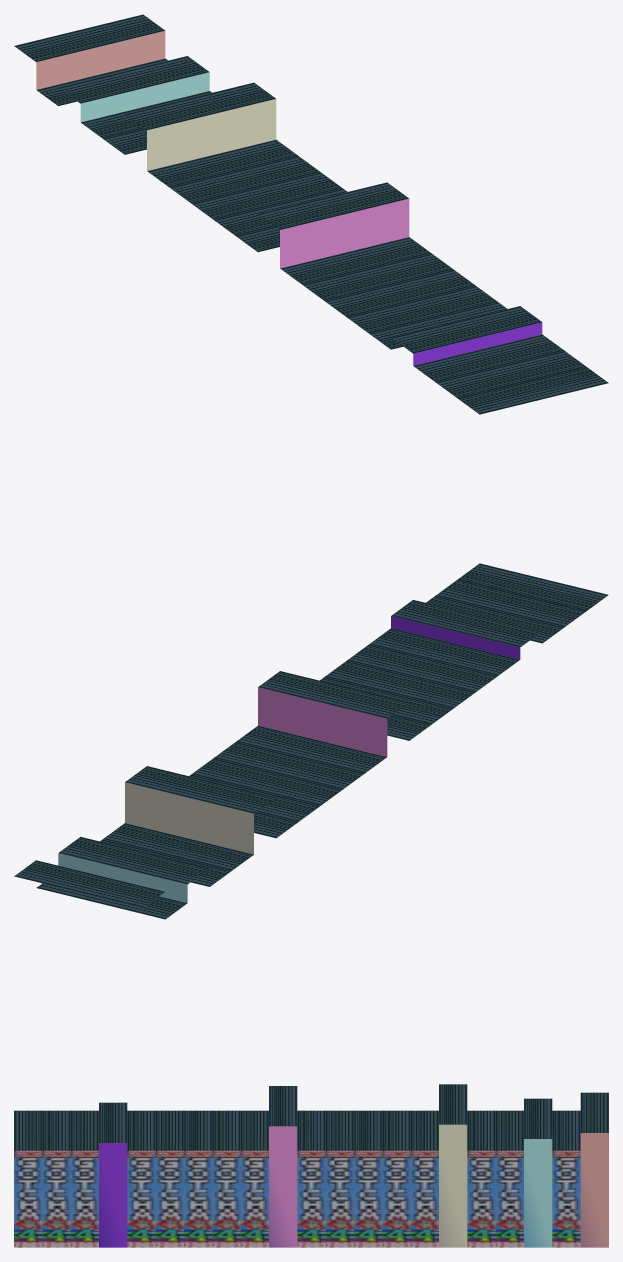
3 renders of one model, top to bottom at view 1: azimuth 30°, elevation 25°; view 2: azimuth 150°, elevation 25°; view 3: azimuth 270°, elevation 25°, orthographic. The views are drawn at different scales.
Visible parts, largest first — view 1: Joint_0_Object_0; view 2: Joint_0_Object_0; view 3: Joint_0_Object_0.
Boxes of the visible parts, x1,y1,x2,y2 form: Joint_0_Object_0: [14, 14, 608, 414]; Joint_0_Object_0: [14, 563, 608, 919]; Joint_0_Object_0: [14, 1084, 608, 1247].
Size of the model in its own units: 591 by 840 by 3690.
1 material, 1 textured.
